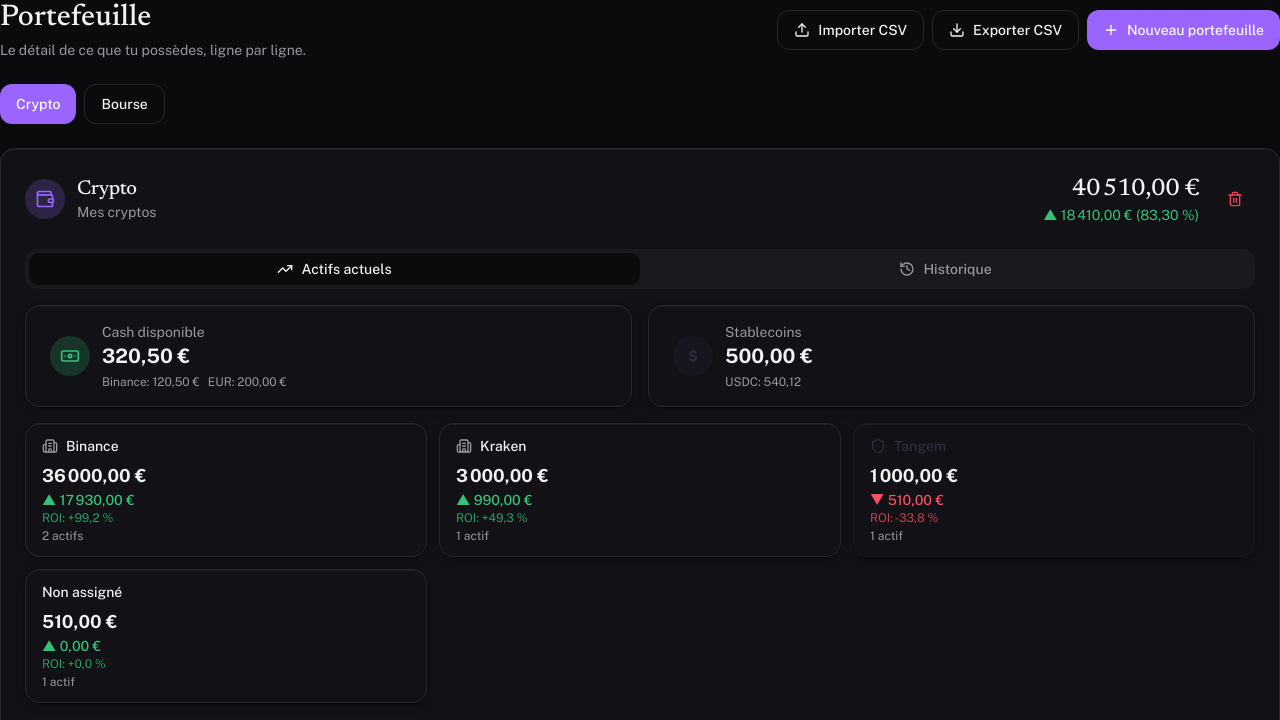
Test: Nouveau portefeuille › exige un nom
Step 1. Click the button "Nouveau portefeuille" → (1184, 30), box [1087, 10, 1279, 50]
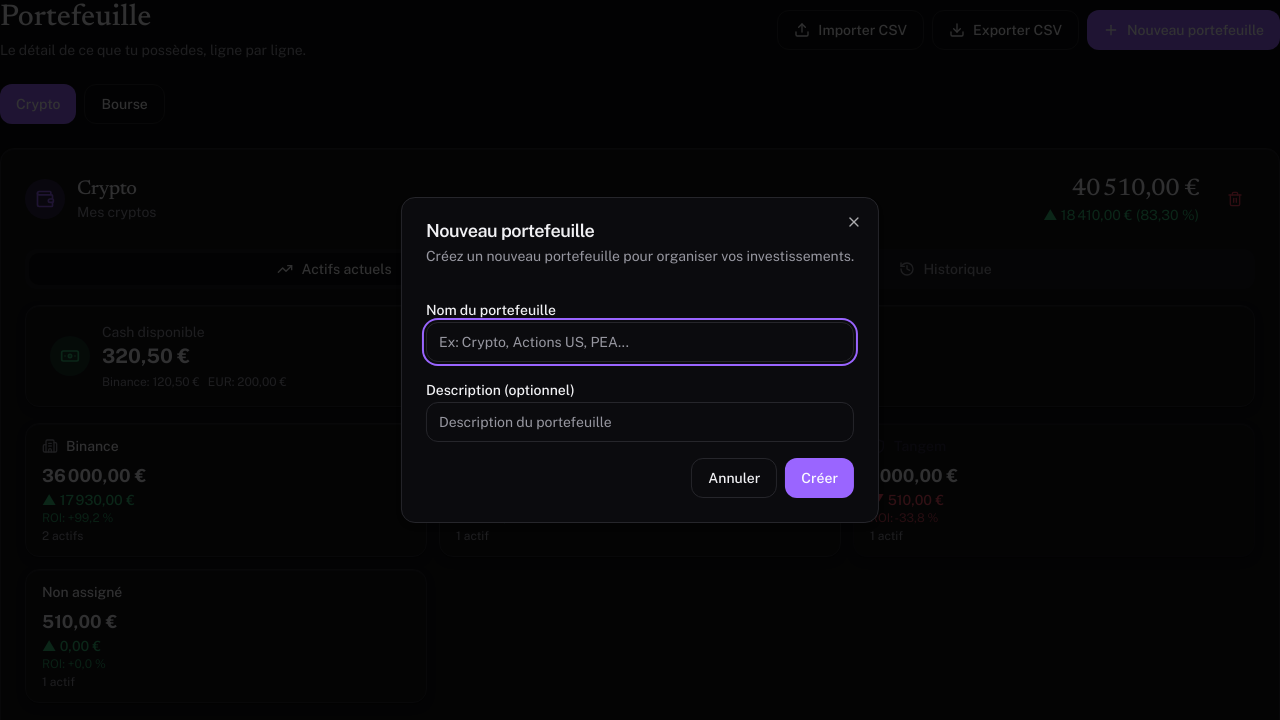
Step 2. Click the button "Créer" → (820, 478), box [785, 458, 854, 498]
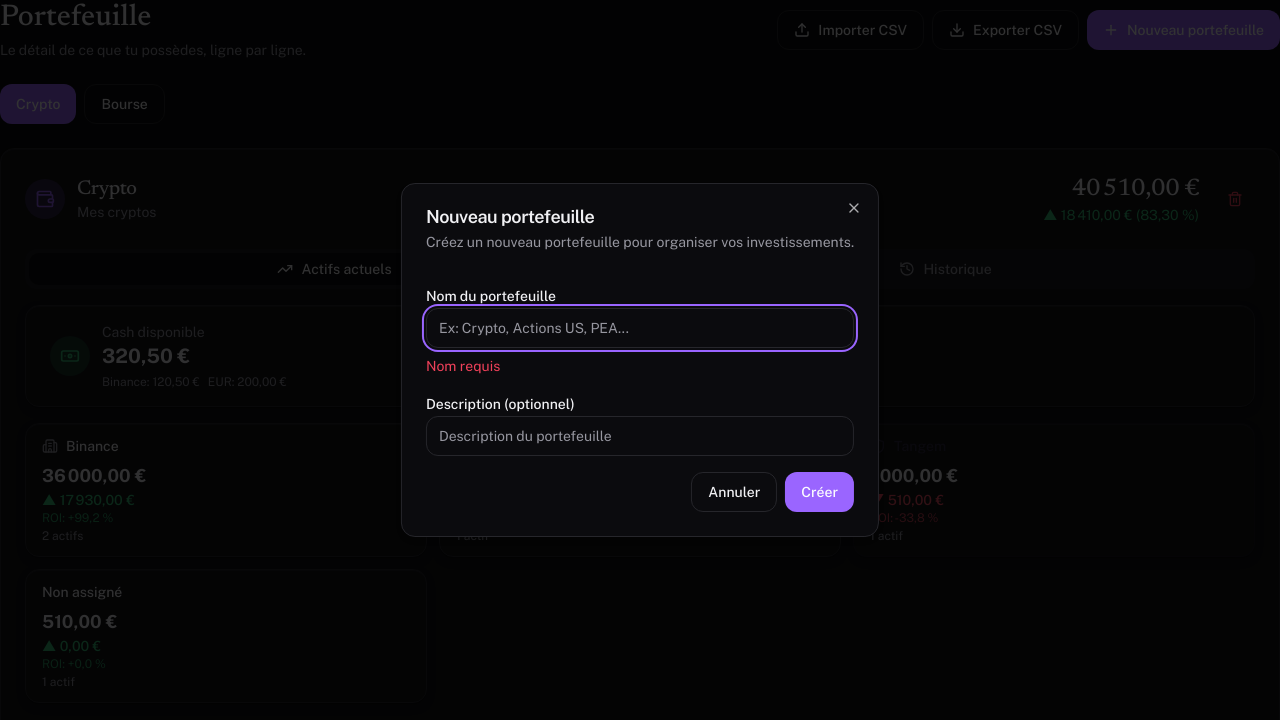
Check: the text "Nom requis" is shown, box [426, 358, 500, 374]
